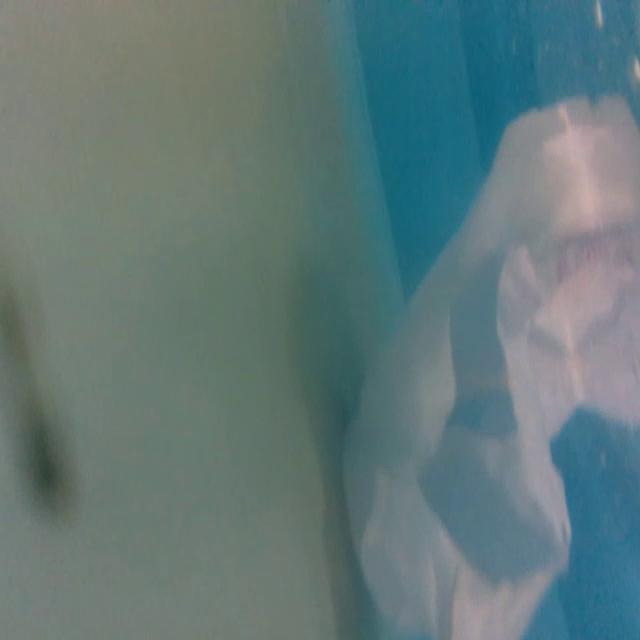plastic bags: (337, 93, 638, 640)
